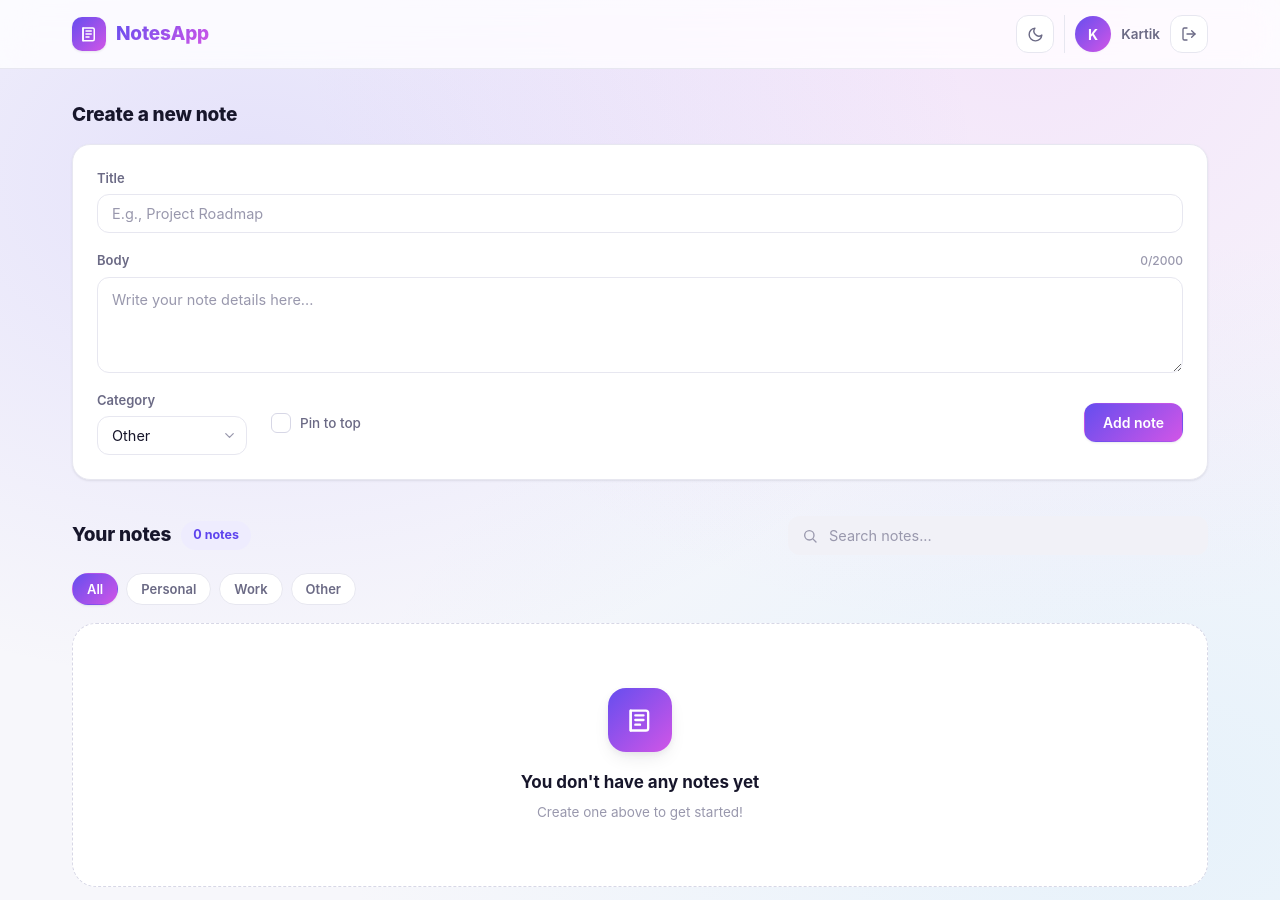
Test: Dashboard - Create Note › adds a new note to the list after the create form is submitted
The image size is (1280, 900).
Expected: the heading "You don't have any notes yet" is shown, [521,772,759,792]
Fill out the atomic input fields
Type "Grocery list" into the field labelled "Title" at coordinates (640, 214), box [97,194,1183,233]
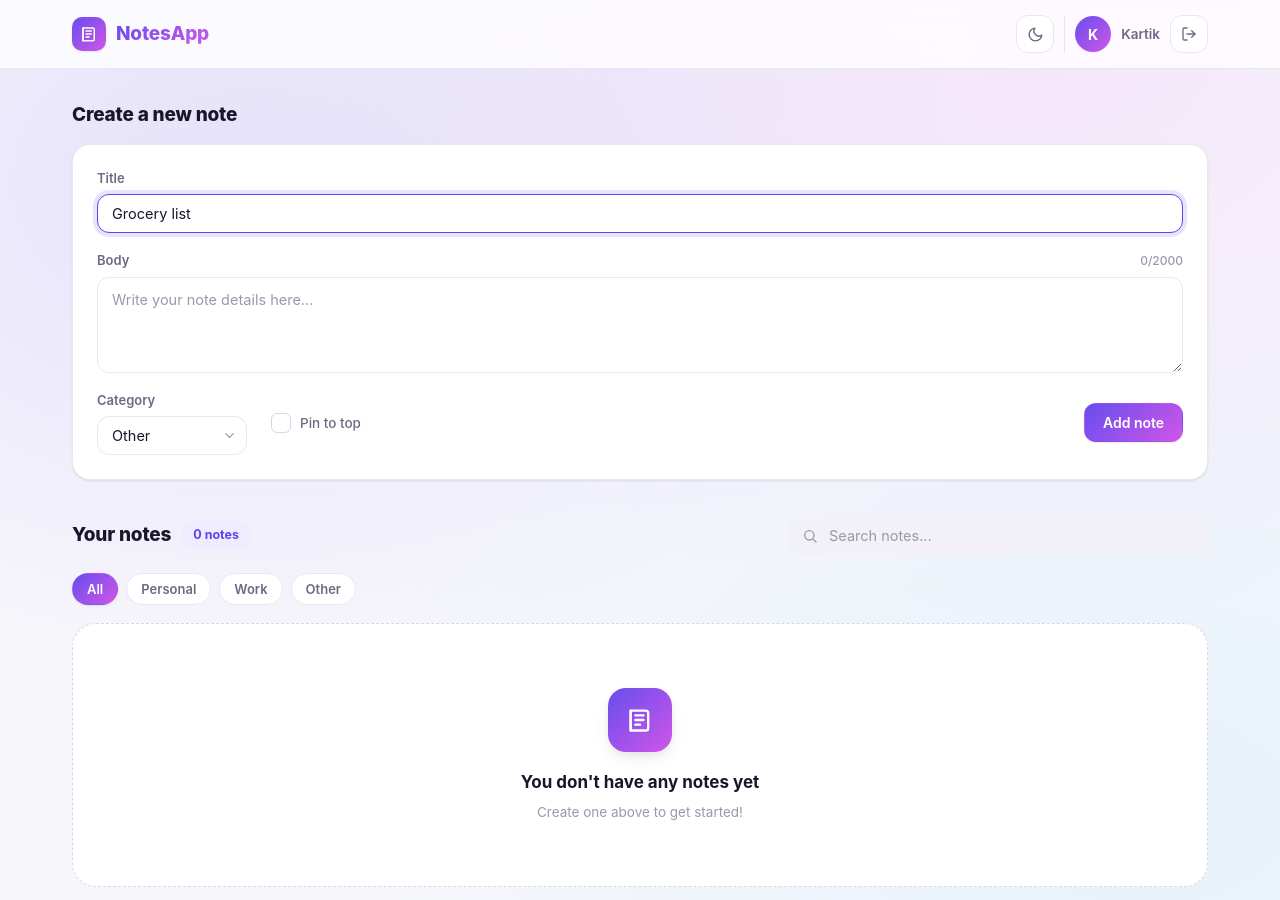
Type "Milk, eggs, bread" into the text box labelled "Body 0/2000" at coordinates (640, 324), box [97,276,1183,372]
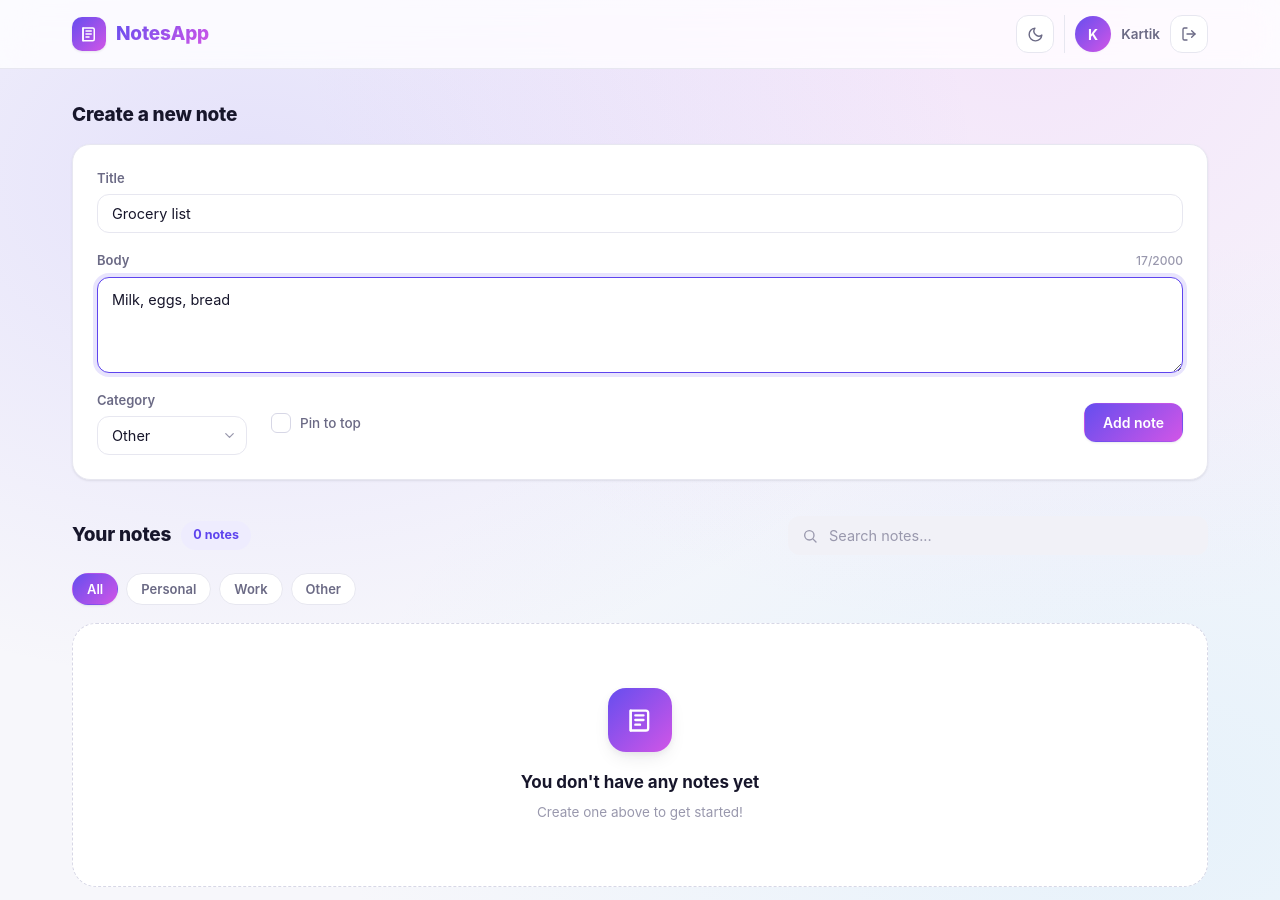
Click the button "Add note" at coordinates (1133, 423), box [1084,403,1183,442]
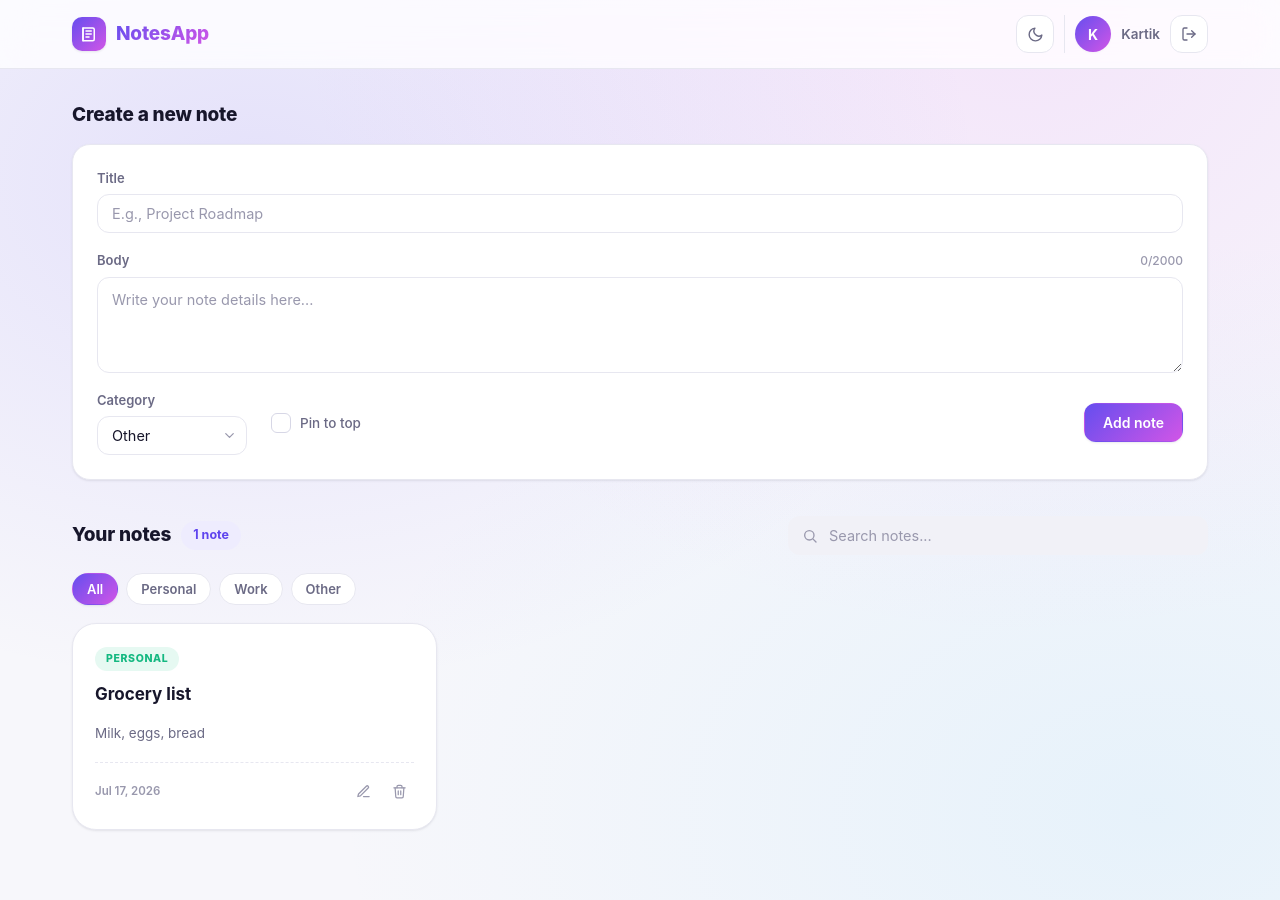
Expected: the heading "Grocery list" is shown, [95,684,191,704]
